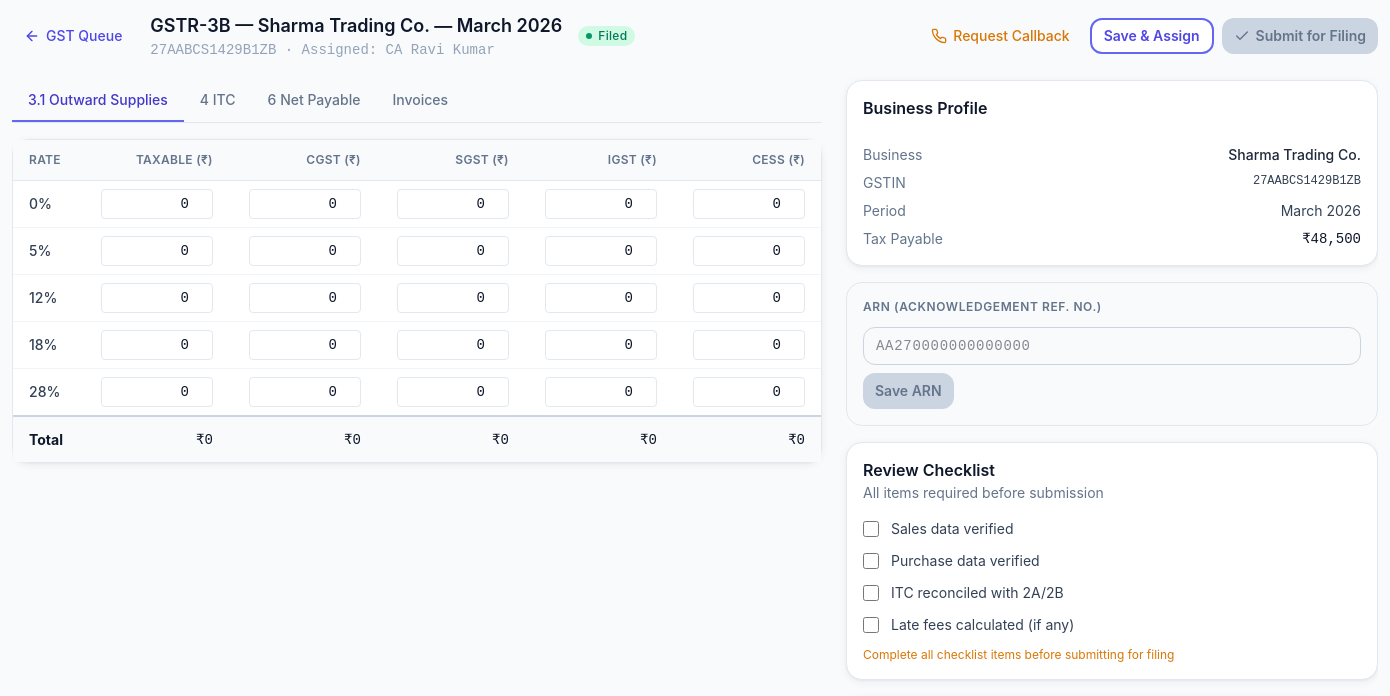
GstReturnReviewPage › shows ARN validation error for invalid format
Use first textbox (ARN input may appear twice due to responsive dual render)
Type "INVALID" into the field at (1112,346), box [863,327,1361,365]
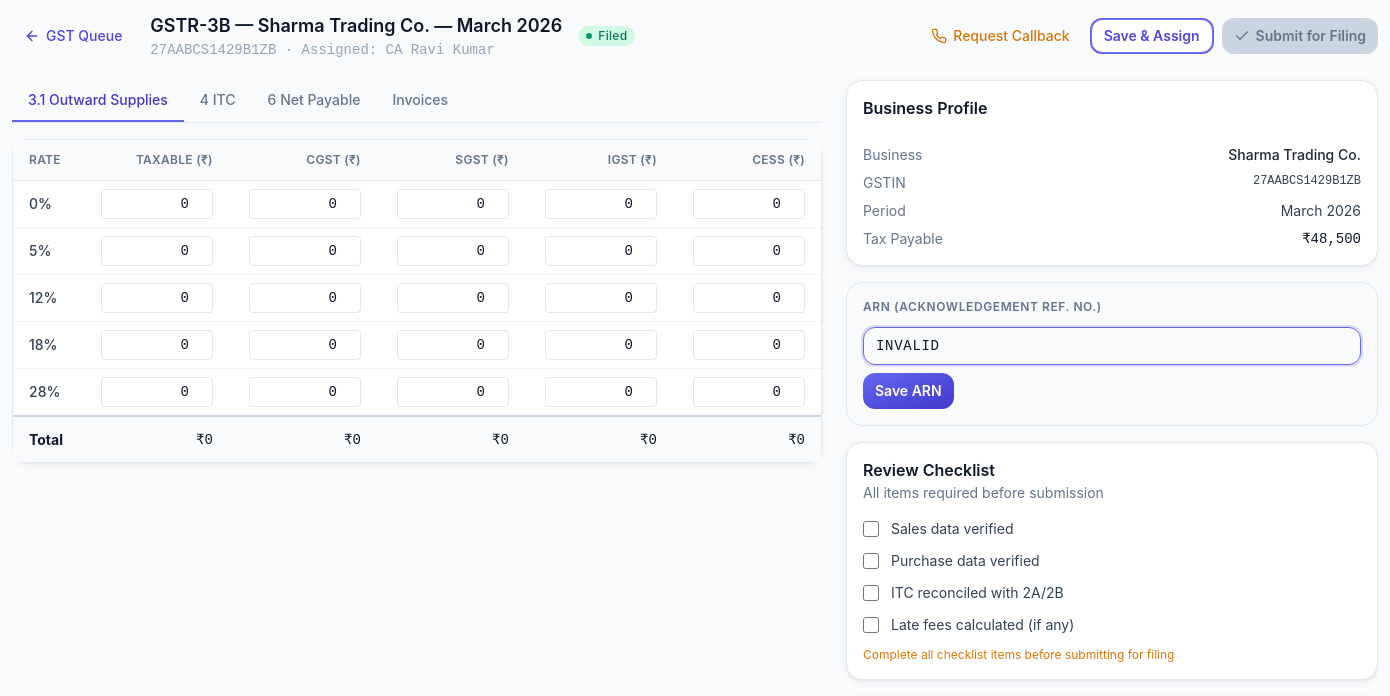
Click the button "Save ARN" at (908,391), box [863,373,954,409]
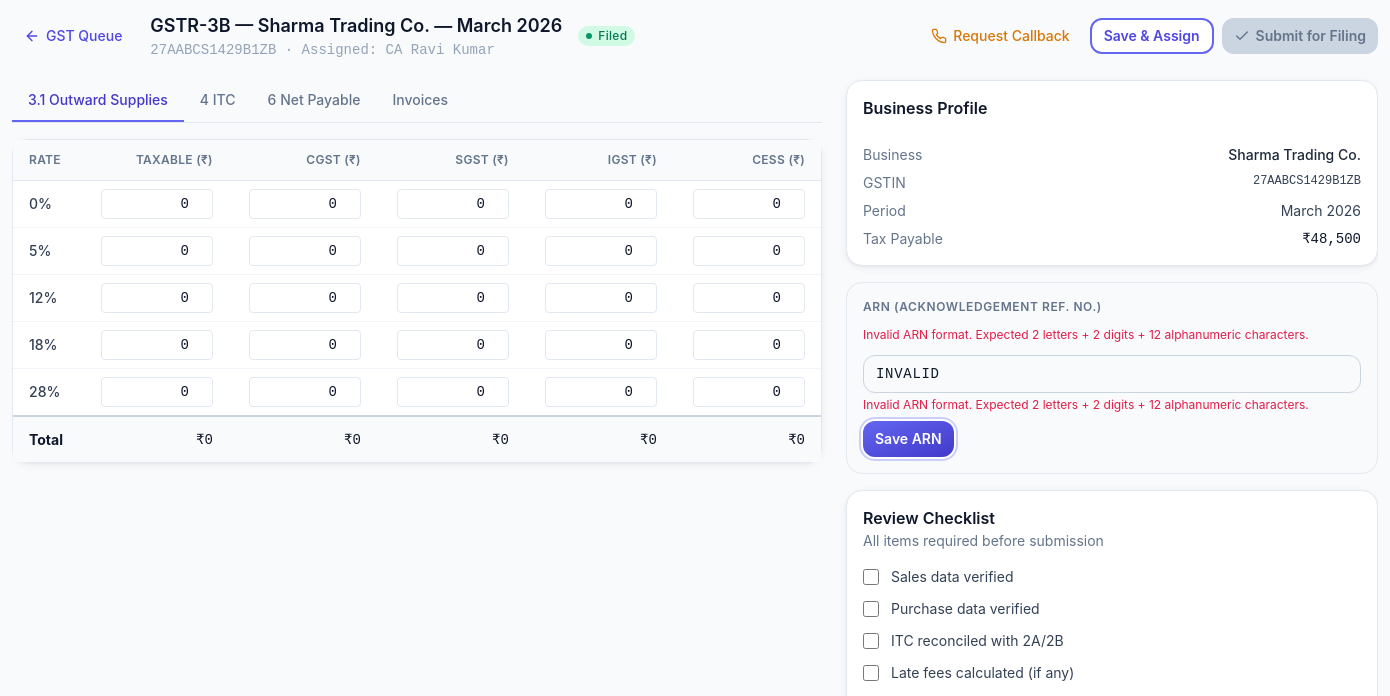
Now the text "Invalid ARN format" is shown, box [863,327,1309,342]
